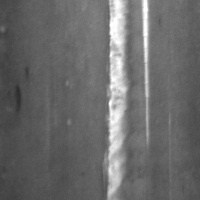inclusion: (11, 82, 24, 112)
scratches: (104, 1, 134, 200), (139, 1, 153, 151)
